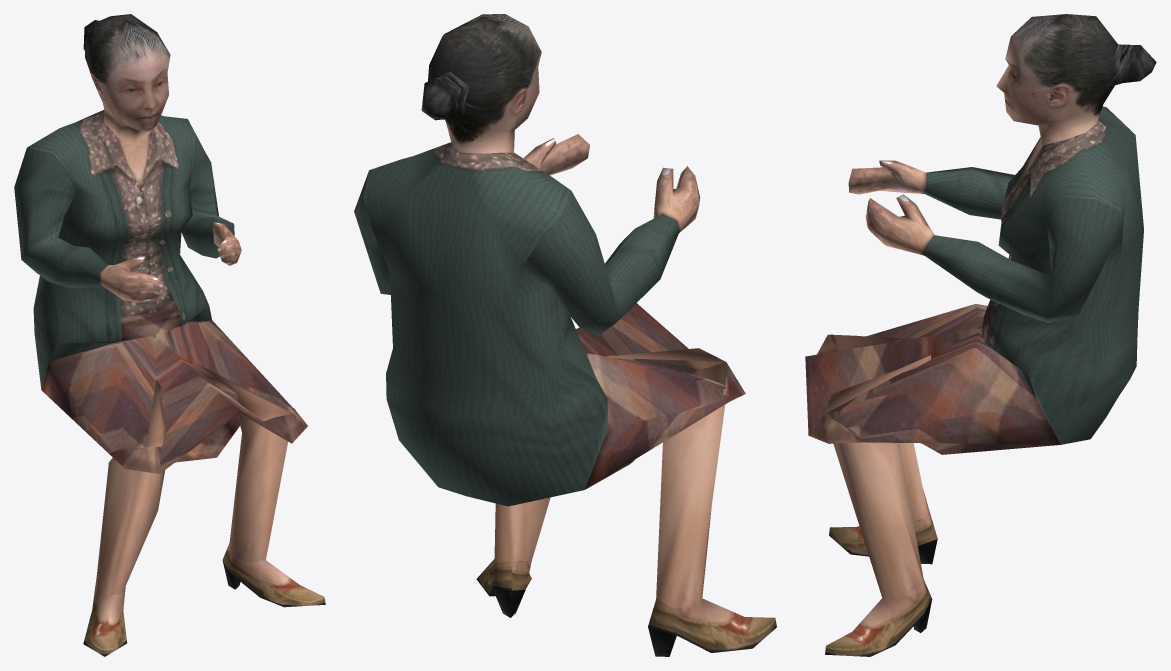
Rendered from Granny02.glb.
The picture shows the model from 3 angles, left to right: view 1: azimuth 30°, elevation 25°; view 2: azimuth 150°, elevation 25°; view 3: azimuth 270°, elevation 25°; orthographic projection. The views are drawn at different scales.
Parts seen in each view (by area): view 1: granny01_lowpoly_网格_granny01_lowpoly_网格mesh.001; view 2: granny01_lowpoly_网格_granny01_lowpoly_网格mesh.001; view 3: granny01_lowpoly_网格_granny01_lowpoly_网格mesh.001.
Boxes of the visible parts, x1,y1,x2,y2 form: granny01_lowpoly_网格_granny01_lowpoly_网格mesh.001: (14,14,325,656); granny01_lowpoly_网格_granny01_lowpoly_网格mesh.001: (354,14,776,656); granny01_lowpoly_网格_granny01_lowpoly_网格mesh.001: (805,14,1156,656).
Size of the model in its own units: 0.5122 by 1.18 by 0.6331.
1 material, 1 textured.
